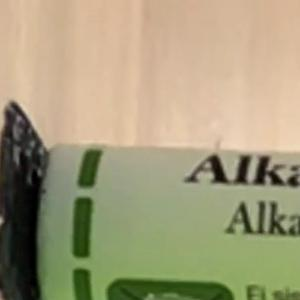keyword: (216, 191, 276, 245)
